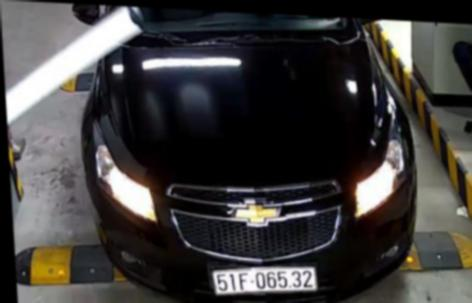License_Plate: (210, 262, 319, 300)
